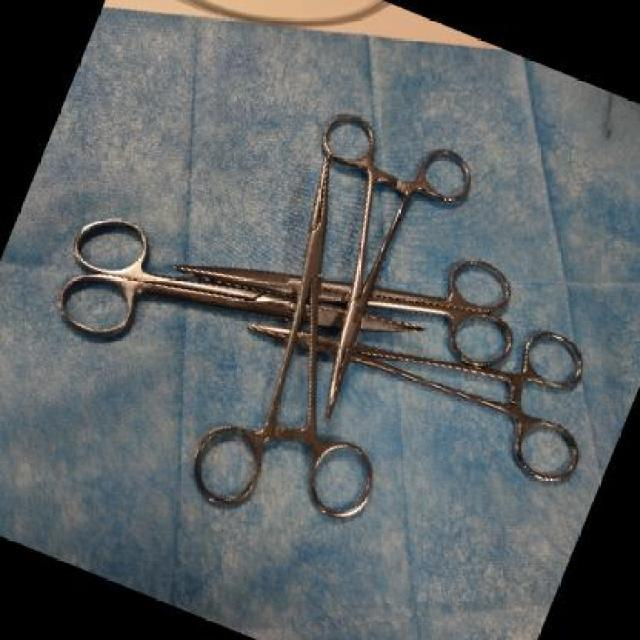tools_table: (51, 83, 594, 524)
